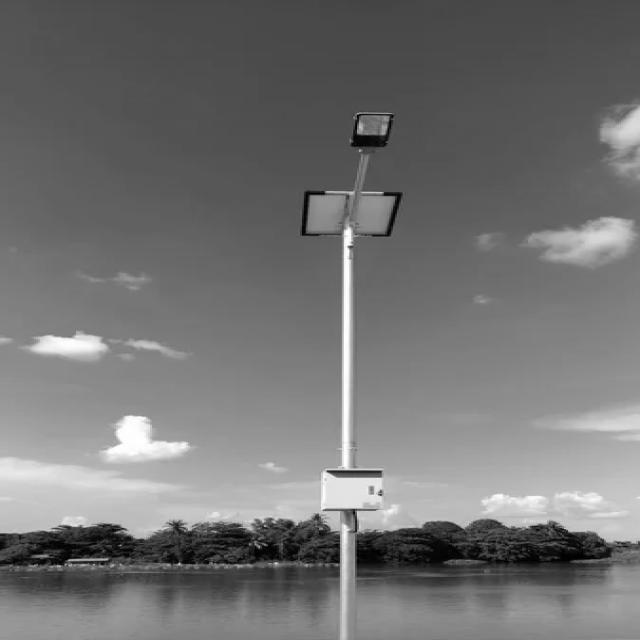Pole: (302, 113, 401, 640)
